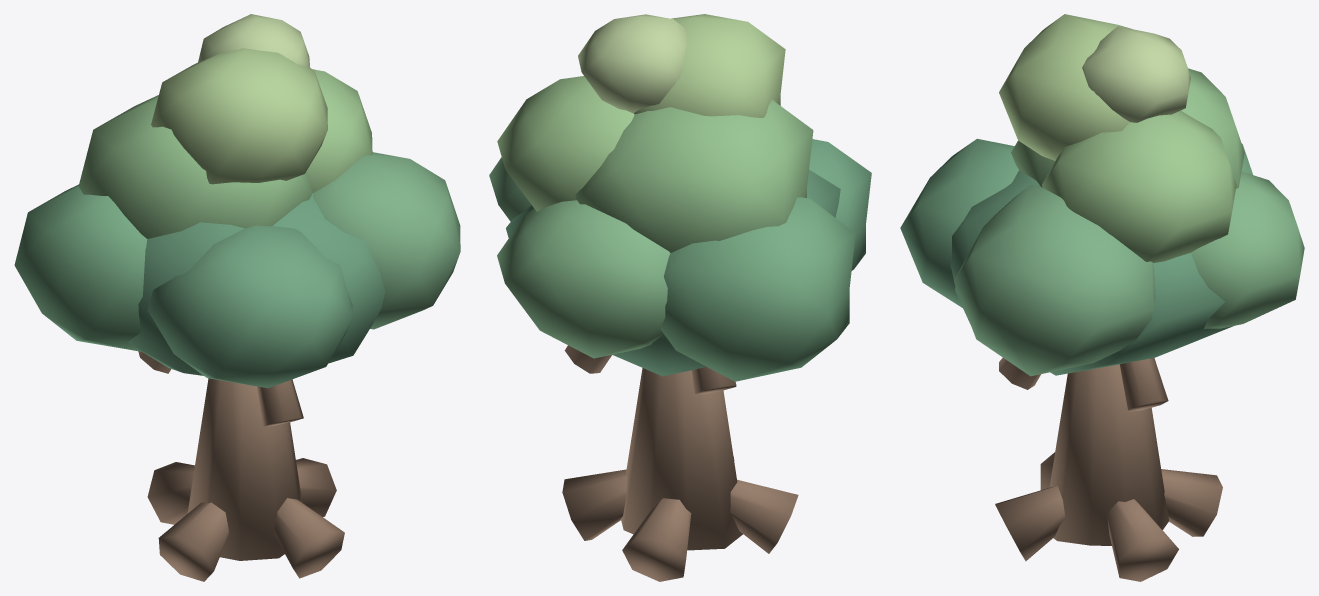
Rendered from oak_tree.glb.
The picture shows the model from 3 angles, left to right: view 1: azimuth 30°, elevation 25°; view 2: azimuth 150°, elevation 25°; view 3: azimuth 270°, elevation 25°; orthographic projection. The views are drawn at different scales.
Visible parts, largest first — view 1: Part; view 2: Part; view 3: Part.
Part boxes in pixels (x1=…): Part: x1=14, y1=14, x2=460, y2=581; Part: x1=489, y1=14, x2=871, y2=581; Part: x1=900, y1=14, x2=1304, y2=581.
Bounding box in the file's own units: 1.83 × 2.38 × 1.66.
